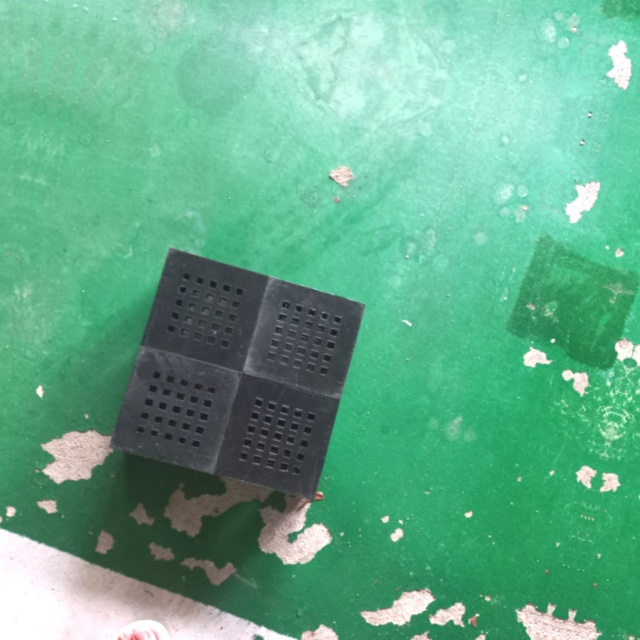pallet: (101, 240, 370, 504)
